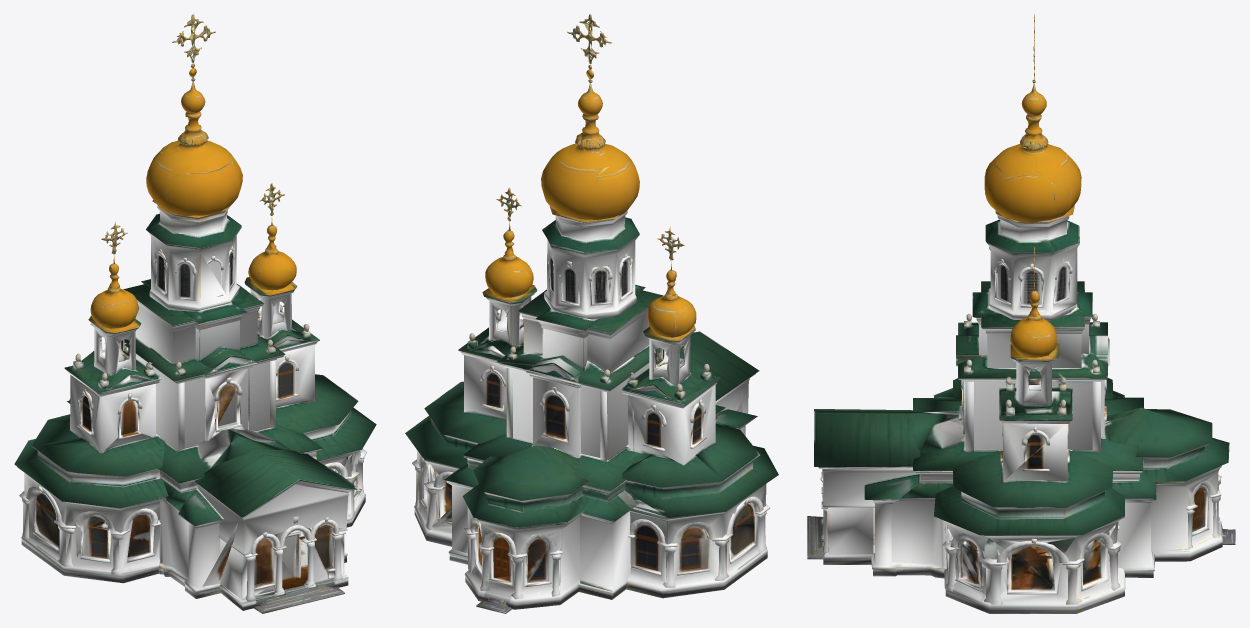
Rendered from cathedral.glb.
The picture shows the model from 3 angles, left to right: view 1: azimuth 30°, elevation 25°; view 2: azimuth 150°, elevation 25°; view 3: azimuth 270°, elevation 25°; orthographic projection. The views are drawn at different scales.
Size of the model in its own units: 0.6148 by 0.9507 by 0.704.
Materials: 1 (1 with a texture image).
